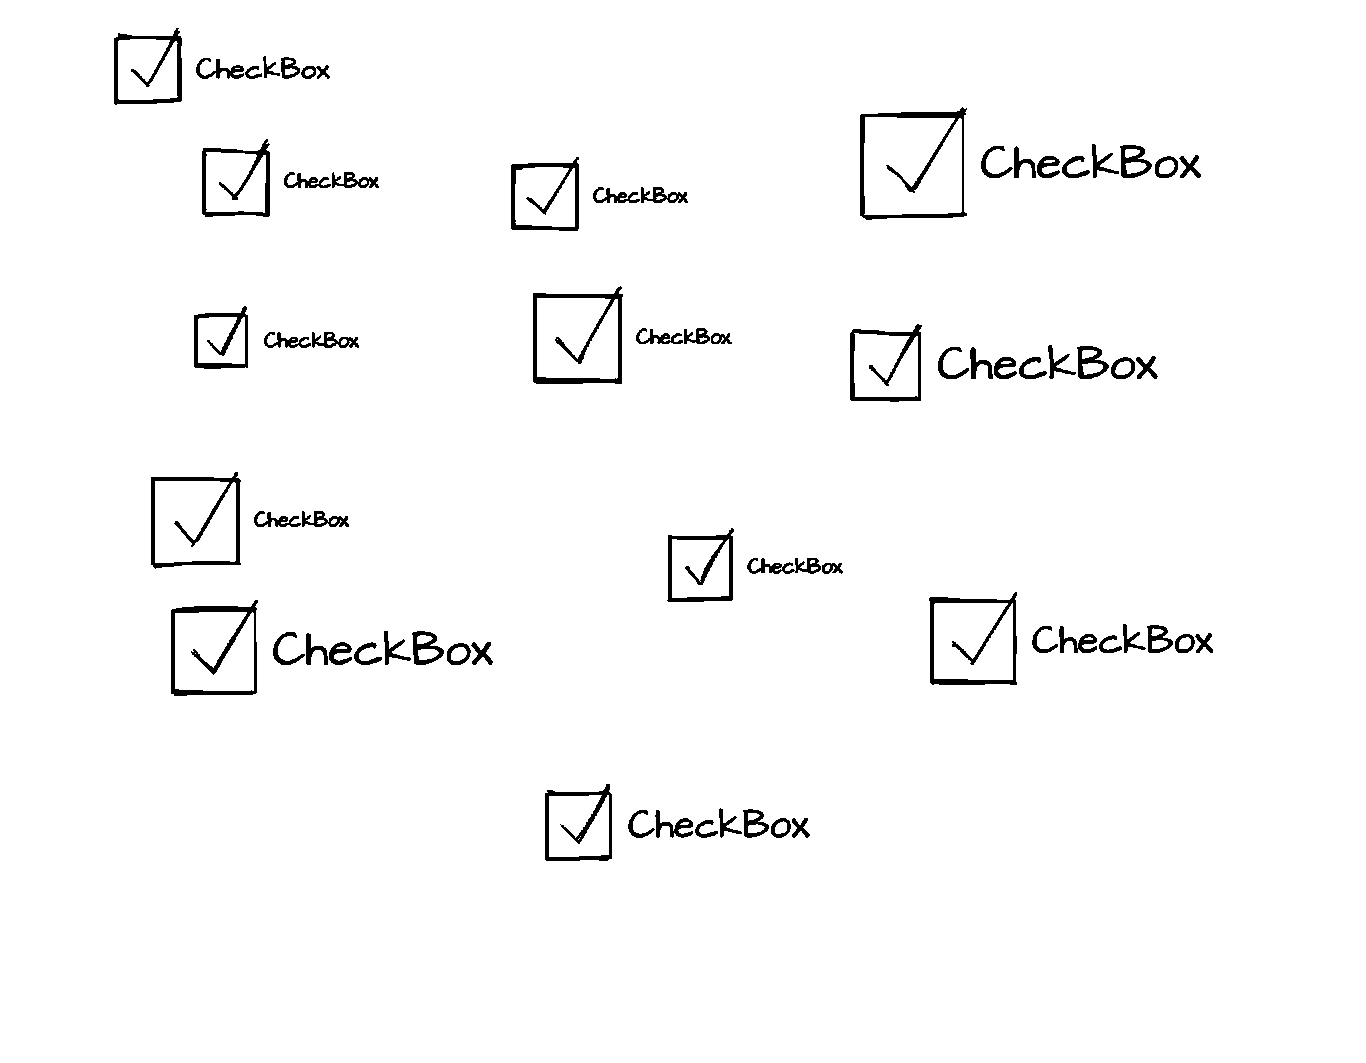Check Box: (854, 102, 1202, 224), (166, 599, 495, 697), (924, 589, 1216, 689), (846, 321, 1161, 406), (539, 781, 812, 863), (526, 287, 732, 389), (146, 469, 351, 571), (111, 24, 334, 109), (502, 154, 692, 239), (197, 141, 381, 221), (662, 527, 844, 606), (191, 301, 361, 374)
